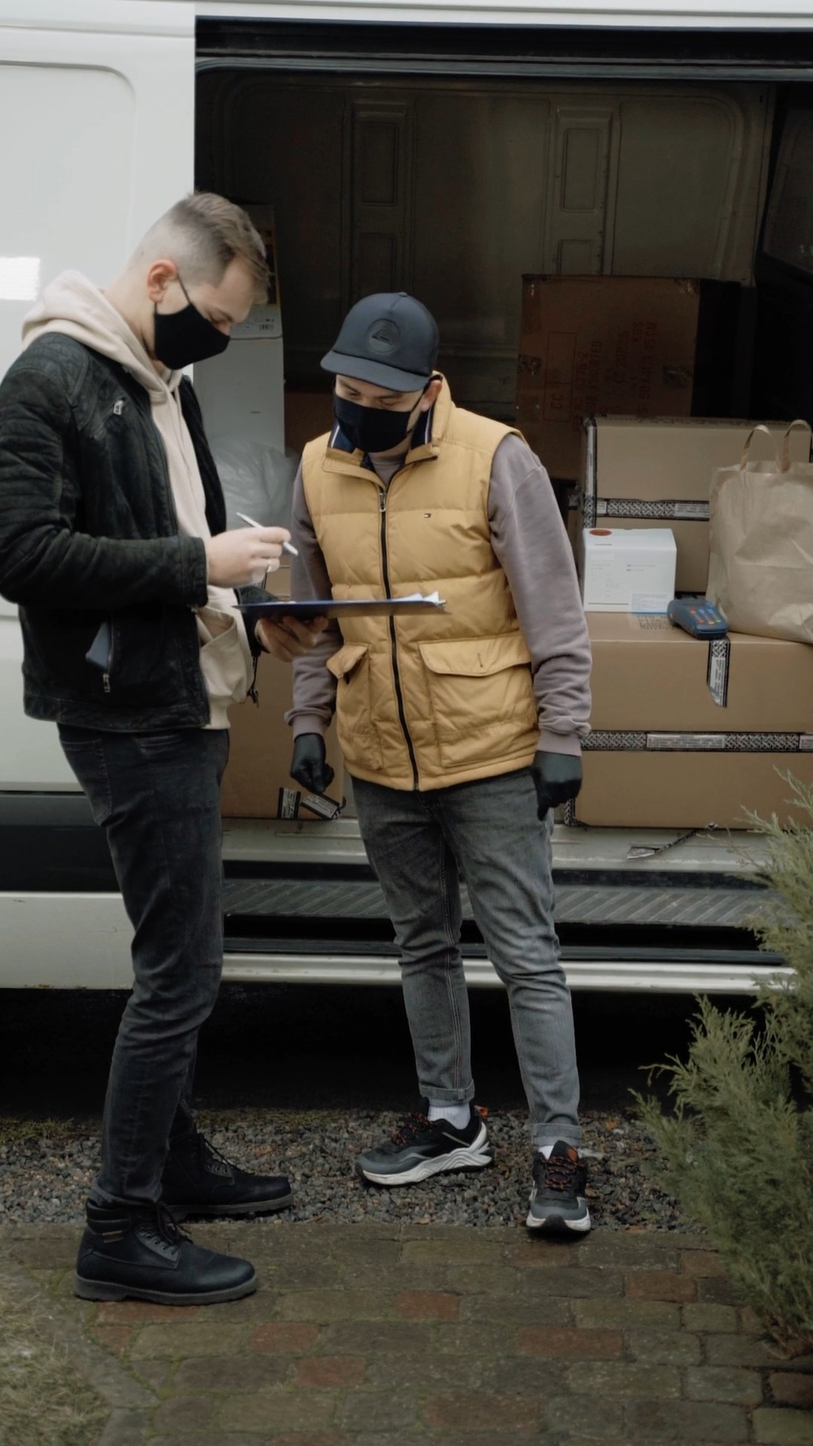No-gloves: (193, 507, 320, 608)
gloves: (497, 743, 622, 816), (274, 708, 343, 799)
